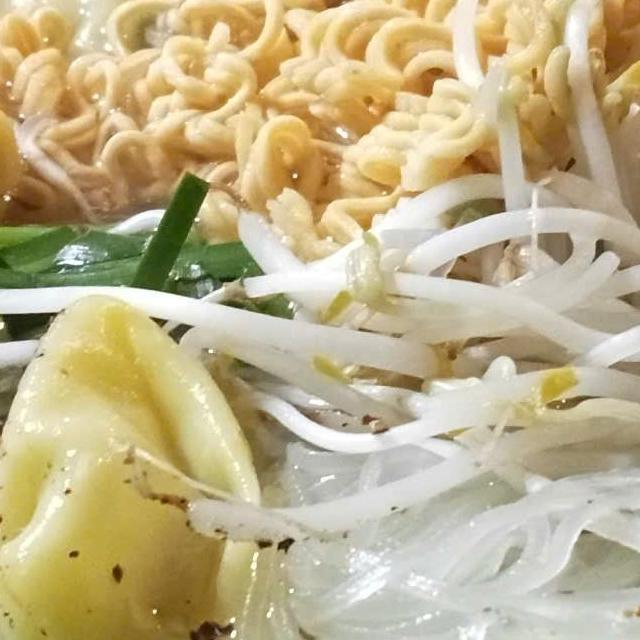hu tieu: (211, 395, 640, 640)
hu tieu mi: (0, 0, 640, 640)
mi: (0, 0, 640, 237)
